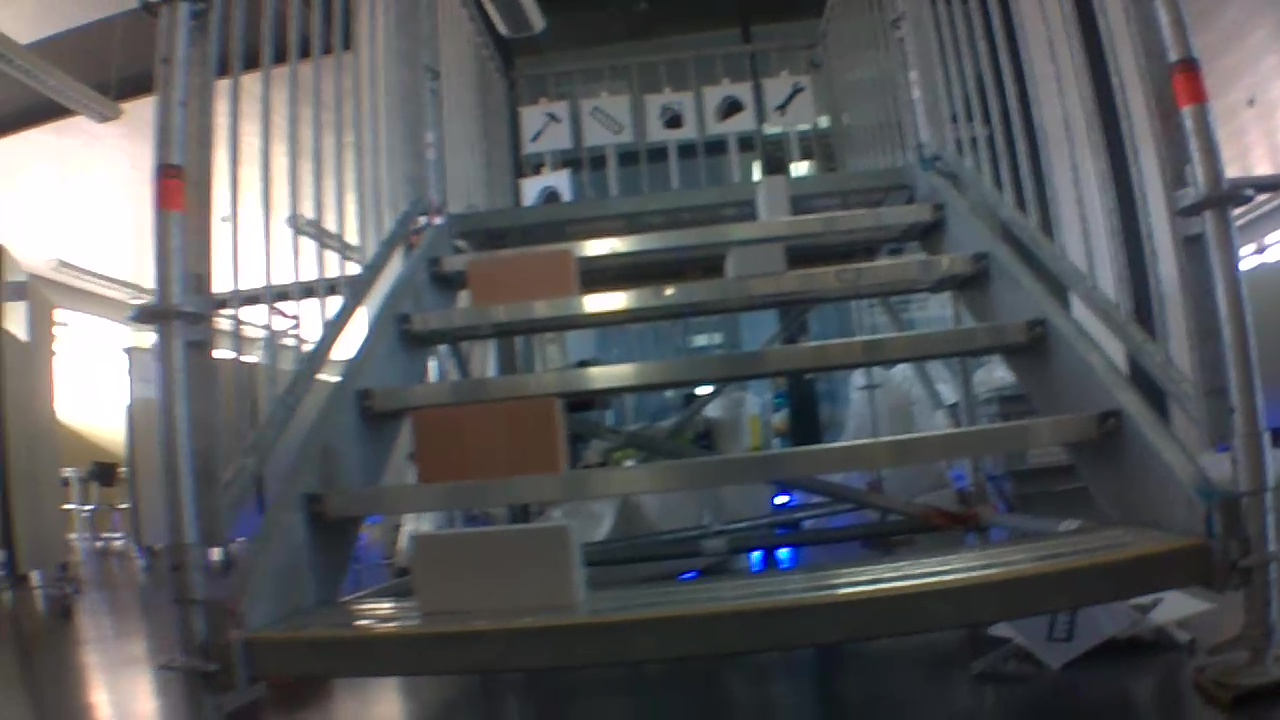brick: (416, 519, 583, 609), (412, 396, 565, 475), (470, 248, 575, 300), (723, 241, 782, 276), (755, 175, 791, 219)
bucket: (654, 97, 691, 132)
edge: (245, 542, 1214, 674), (305, 409, 1122, 515), (350, 326, 1047, 405), (403, 251, 988, 324), (442, 157, 909, 227), (438, 204, 941, 265)
hammer: (526, 108, 563, 146)
ruler: (584, 100, 628, 137)
stairs: (140, 4, 1277, 718)
steps: (238, 150, 1222, 692)
taco: (712, 88, 751, 126)
wrench: (770, 76, 808, 124)
